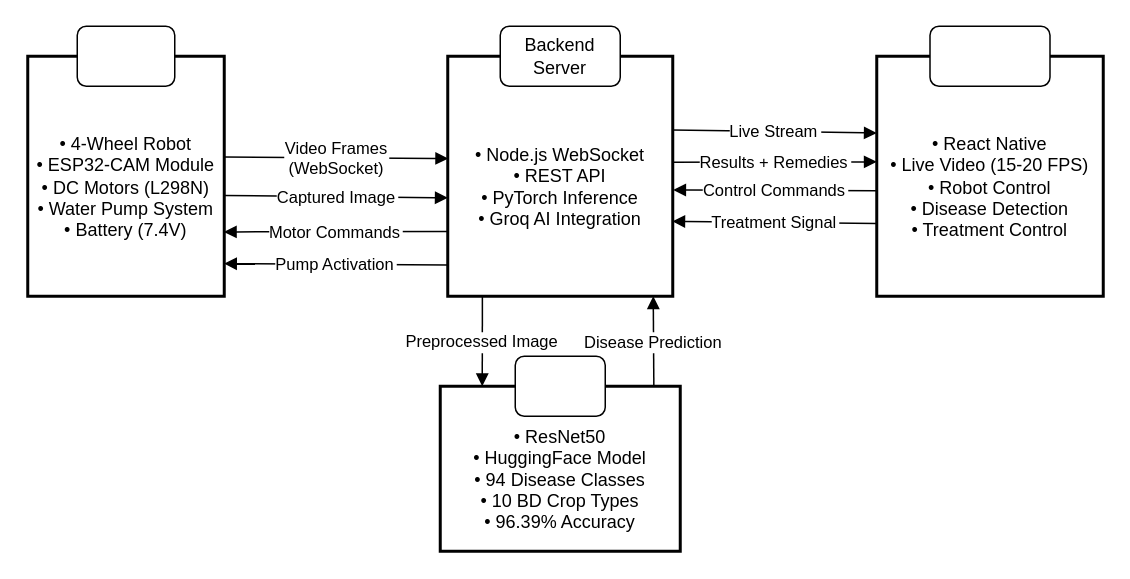
This 1130x579 diagram has some shape labels left out. The box of each missing label's shape, as (x1, y1, x2, y2) in pixels:
Hardware Platform: (76, 25, 175, 86)
ML Model: (514, 355, 605, 416)
Mobile App: (928, 25, 1050, 86)
